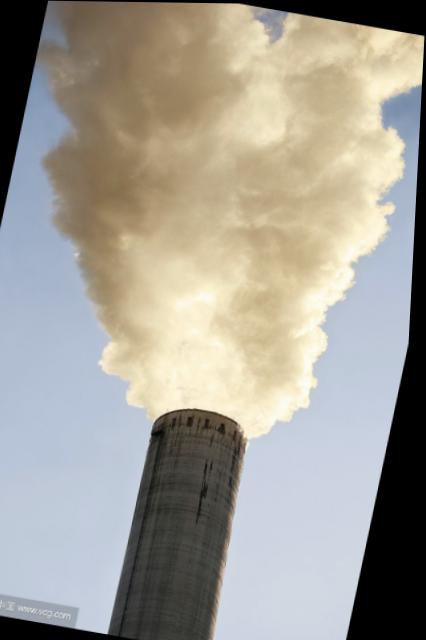smoke: (107, 24, 359, 408), (57, 1, 177, 236), (321, 118, 382, 283), (365, 35, 422, 80), (84, 235, 122, 296)
